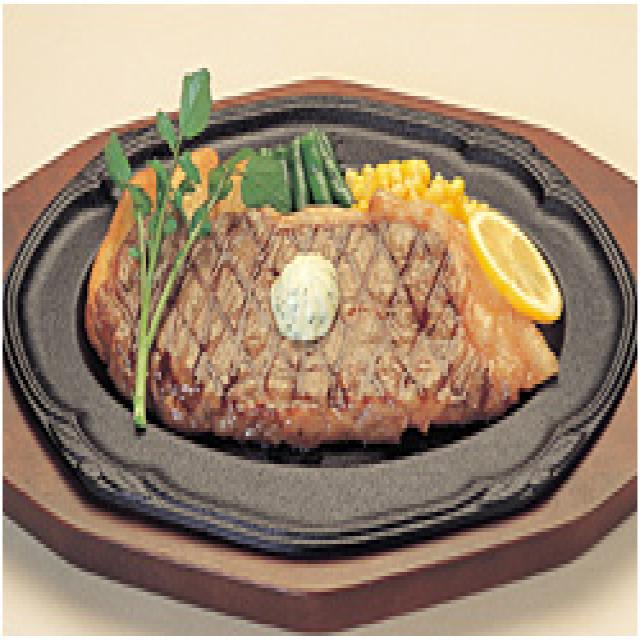牛肉菜式: (80, 180, 564, 484)
